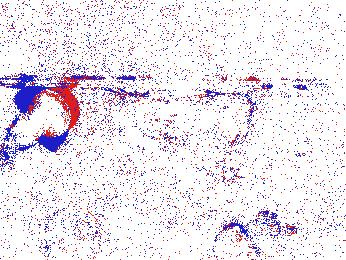flame jellyfish: (1, 88, 80, 168), (212, 210, 299, 260), (44, 206, 105, 260)
